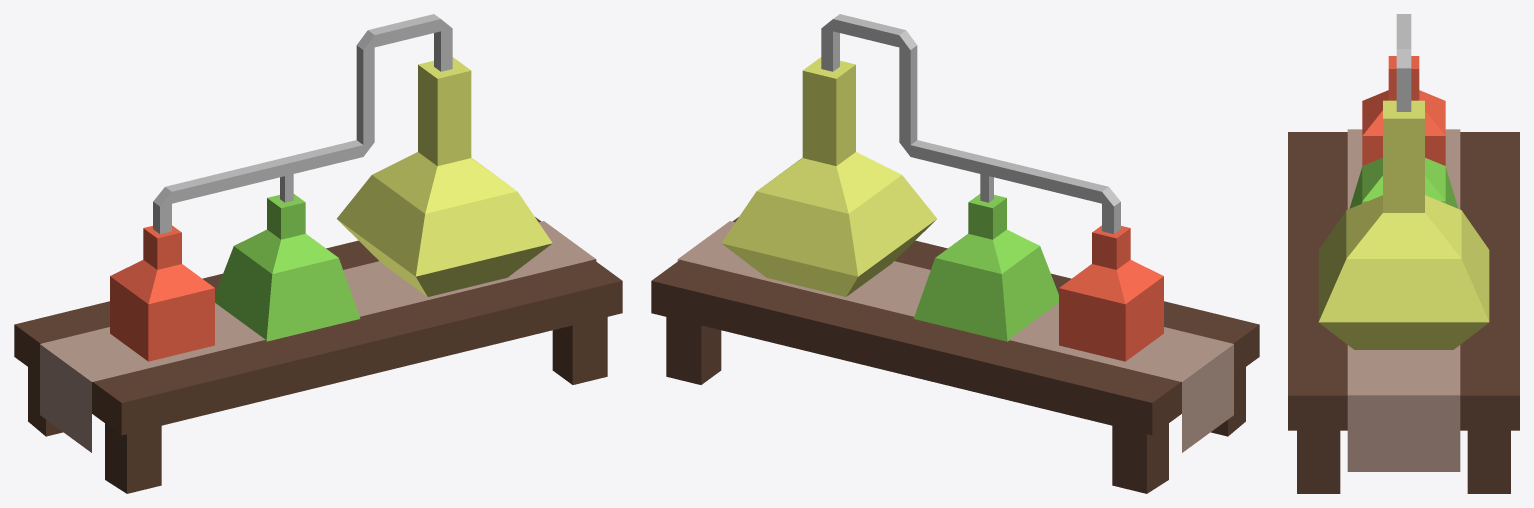
Rendered from Experiment 01.FBX.
3 renders of one model, left to right at view 1: azimuth 30°, elevation 25°; view 2: azimuth 150°, elevation 25°; view 3: azimuth 270°, elevation 25°, orthographic. The views are drawn at different scales.
Visible parts, largest first — view 1: Experiment 01; view 2: Experiment 01; view 3: Experiment 01.
Part boxes in pixels (x1,y1,x2,y2): Experiment 01: (14,14,622,493); Experiment 01: (651,14,1259,493); Experiment 01: (1288,14,1519,493).
Size of the model in its own units: 217 by 145 by 80.
